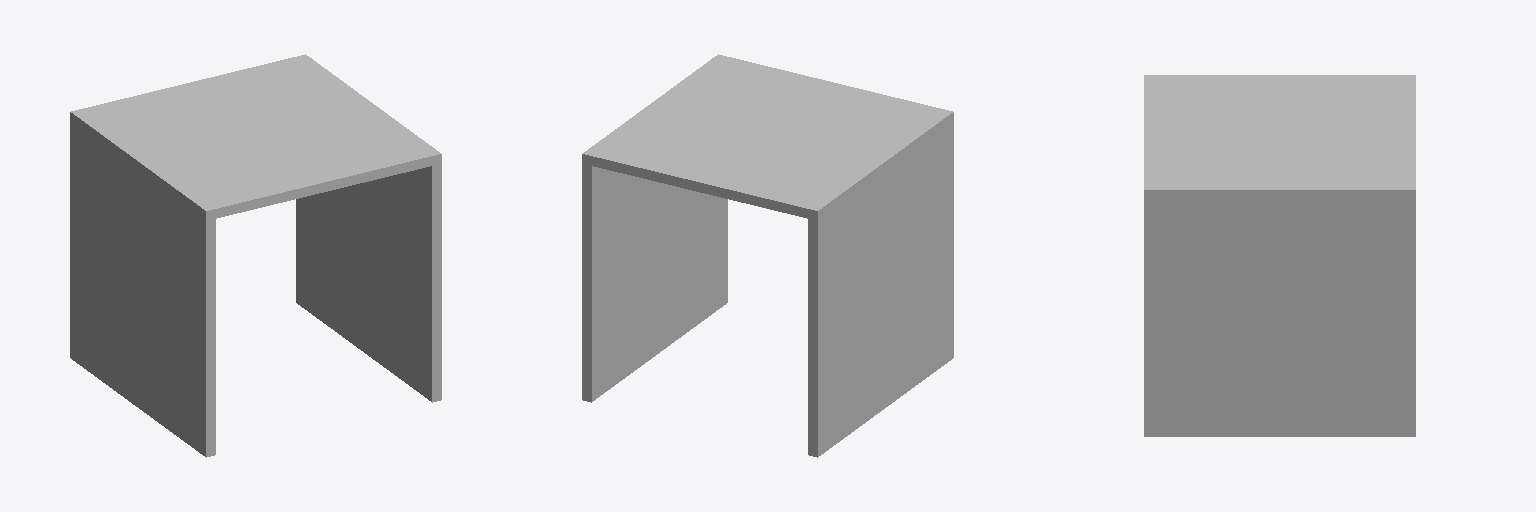
The model's file is coridor_straight_floorless.obj.
The picture shows the model from 3 angles: view 1: azimuth 30°, elevation 25°; view 2: azimuth 150°, elevation 25°; view 3: azimuth 270°, elevation 25°; orthographic projection.
Parts seen in each view (by area): view 1: pillar, ceiling, Wall; view 2: pillar, ceiling, Wall; view 3: Wall, ceiling.
Boxes of the visible parts, x1=… form: pillar: x1=70, y1=109, x2=215, y2=457; ceiling: x1=70, y1=55, x2=441, y2=220; Wall: x1=296, y1=54, x2=441, y2=402; pillar: x1=808, y1=111, x2=953, y2=457; ceiling: x1=582, y1=55, x2=953, y2=219; Wall: x1=582, y1=54, x2=727, y2=402; Wall: x1=1144, y1=186, x2=1415, y2=436; ceiling: x1=1144, y1=75, x2=1415, y2=199.
Size of the model in its own units: 5 by 5 by 5.